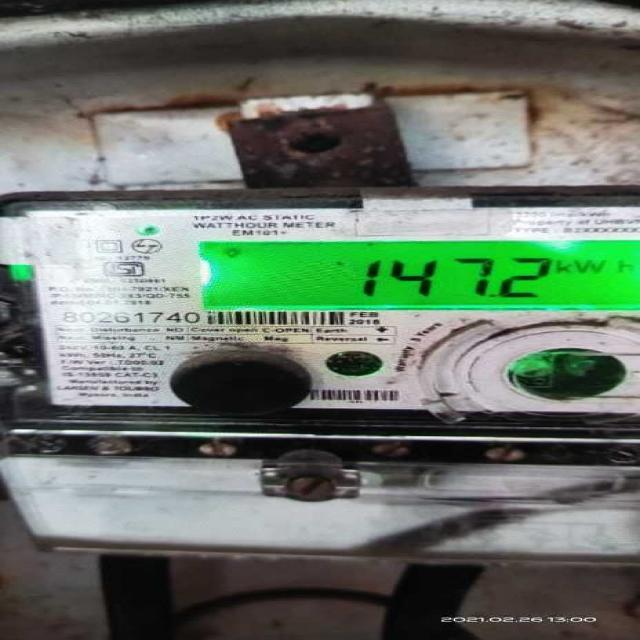display: (200, 240, 640, 310)
frame: (355, 250, 553, 305), (61, 310, 201, 325)
gauge: (0, 190, 640, 459)
